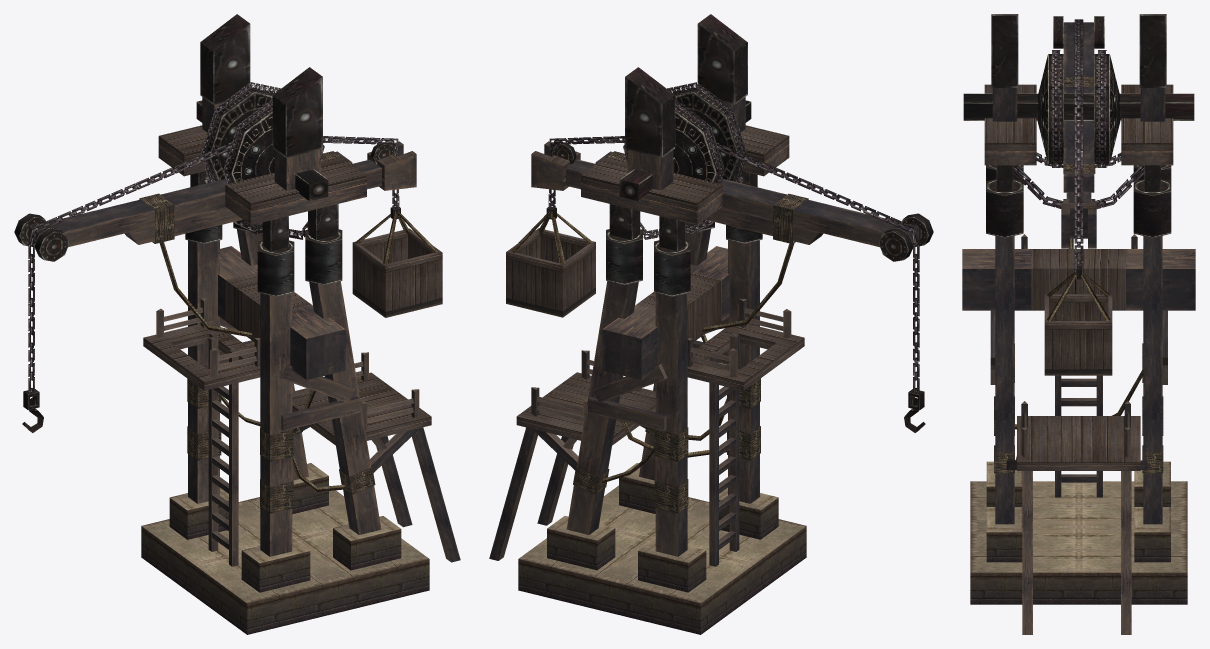
Rendered from diaochejia_jx_62.FBX.
The picture shows the model from 3 angles, left to right: view 1: azimuth 30°, elevation 25°; view 2: azimuth 150°, elevation 25°; view 3: azimuth 270°, elevation 25°; orthographic projection. The views are drawn at different scales.
Visible parts, largest first — view 1: diaochejia_jx_62; view 2: diaochejia_jx_62; view 3: diaochejia_jx_62.
Boxes of the visible parts, x1,y1,x2,y2 form: diaochejia_jx_62: [14, 14, 460, 634]; diaochejia_jx_62: [489, 14, 933, 634]; diaochejia_jx_62: [962, 14, 1195, 634].
Size of what is drawn, in the model's own units: 2424 by 3009 by 1168.
